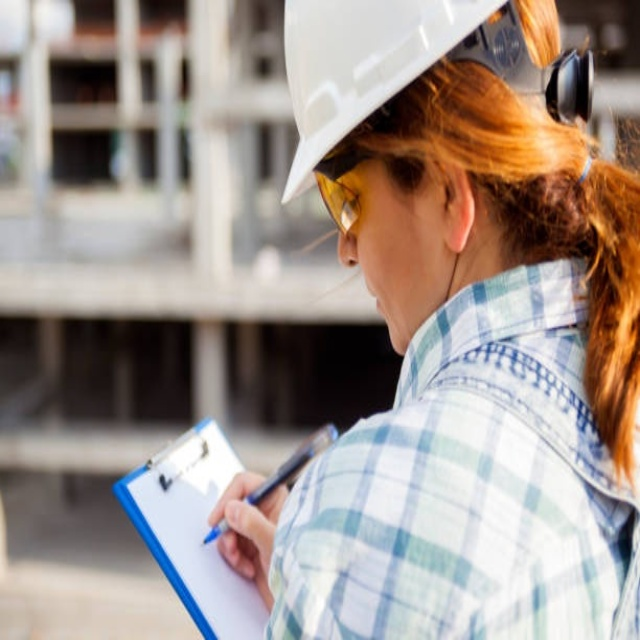Gafas: (312, 146, 376, 242)
Sin_guantes: (209, 467, 291, 610)
Sin_mascara: (358, 259, 408, 350)
